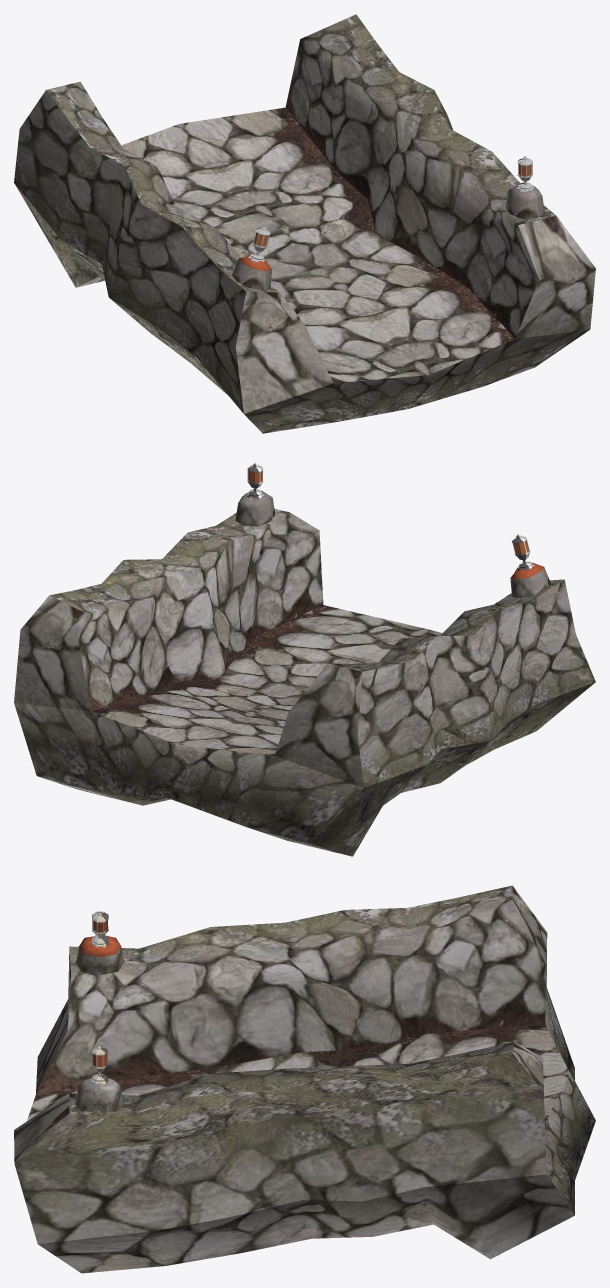
The model's file is spooky-bridge-fragment-01-art.glb.
The picture shows the model from 3 angles, top to bottom: view 1: azimuth 30°, elevation 25°; view 2: azimuth 150°, elevation 25°; view 3: azimuth 270°, elevation 25°; orthographic projection. The views are drawn at different scales.
Visible parts, largest first — view 1: Spooky_Bridge_Fragment_01_Art; view 2: Spooky_Bridge_Fragment_01_Art; view 3: Spooky_Bridge_Fragment_01_Art.
Part boxes in pixels (x1=…): Spooky_Bridge_Fragment_01_Art: x1=14, y1=14, x2=595, y2=433; Spooky_Bridge_Fragment_01_Art: x1=14, y1=462, x2=595, y2=856; Spooky_Bridge_Fragment_01_Art: x1=14, y1=885, x2=595, y2=1273.
Size of the model in its own units: 3.36 by 1.86 by 4.17.
Materials: 3 (3 with a texture image).
